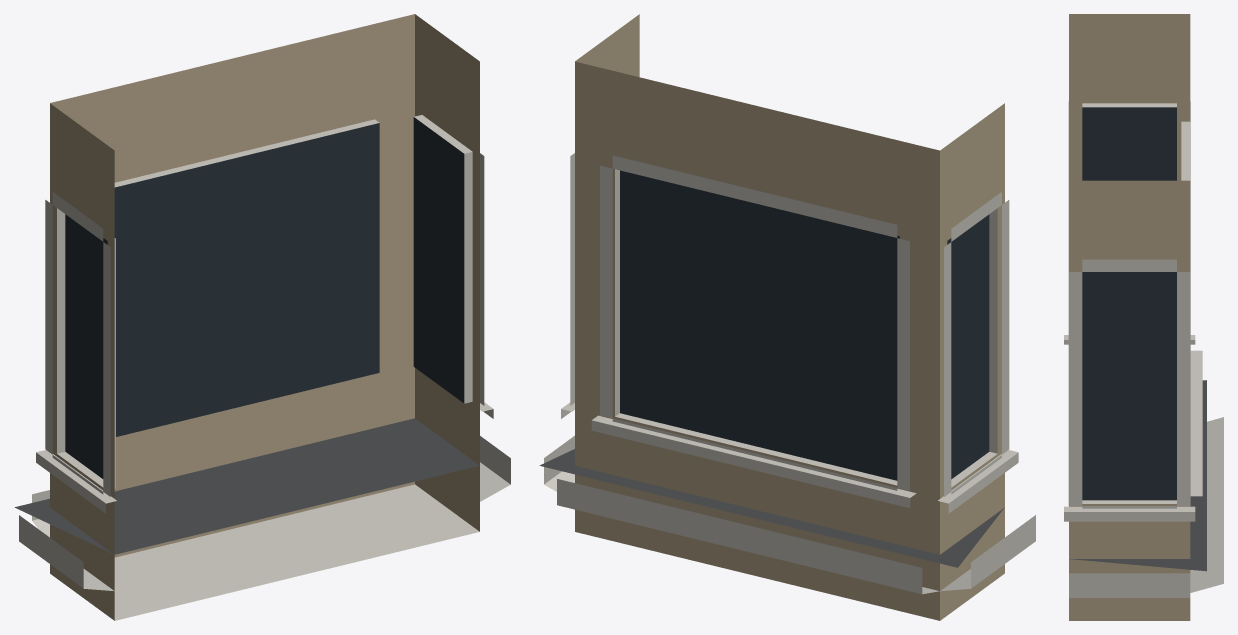
Rendered from bay-edwardian.glb.
3 views of the same model, side by side, from view 1: azimuth 30°, elevation 25°; view 2: azimuth 150°, elevation 25°; view 3: azimuth 270°, elevation 25° (orthographic). The views are drawn at different scales.
Parts seen in each view (by area): view 1: storey, cap; view 2: storey, cap; view 3: storey, cap.
Boxes of the visible parts, x1,y1,x2,y2 form: storey: (36, 14, 493, 620); cap: (14, 418, 510, 620); storey: (561, 14, 1018, 620); cap: (539, 435, 1035, 620); storey: (1064, 14, 1202, 620); cap: (1069, 380, 1223, 620).
Size of the model in its own units: 3.04 by 3.2 by 1.05.
